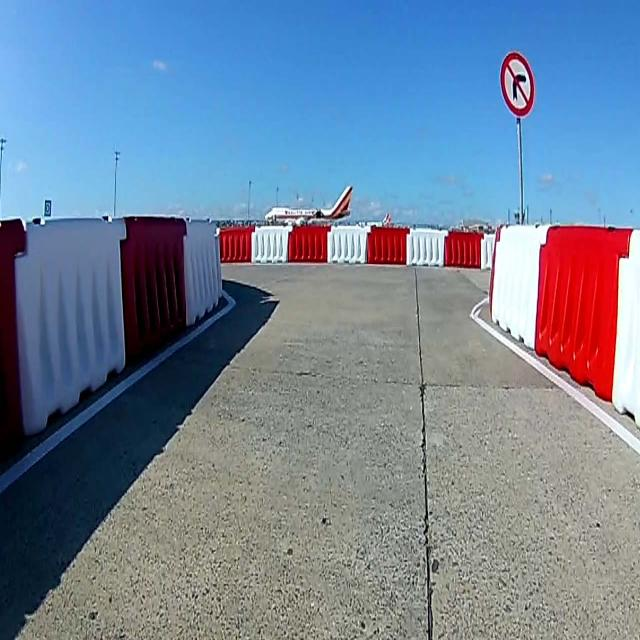sagadonulmez: (500, 51, 534, 120)
